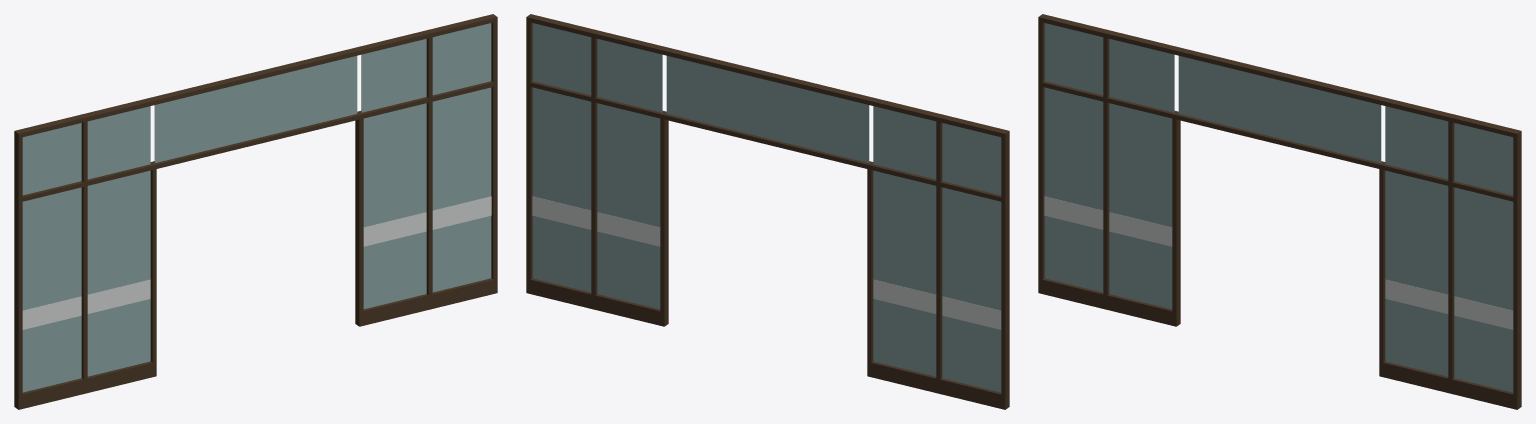
The model's file is SM_80s_GlassFront2.glb.
3 views of the same model, side by side, from view 1: azimuth 30°, elevation 25°; view 2: azimuth 150°, elevation 25°; view 3: azimuth 330°, elevation 25° (orthographic).
Visible parts, largest first — view 1: SM_80s_GlassFront; view 2: SM_80s_GlassFront; view 3: SM_80s_GlassFront.
Boxes of the visible parts, x1,y1,x2,y2 form: SM_80s_GlassFront: (14,14,497,409); SM_80s_GlassFront: (526,14,1009,409); SM_80s_GlassFront: (1038,14,1521,409).
Bounding box in the file's own units: 10.4 × 5.73 × 0.16.
